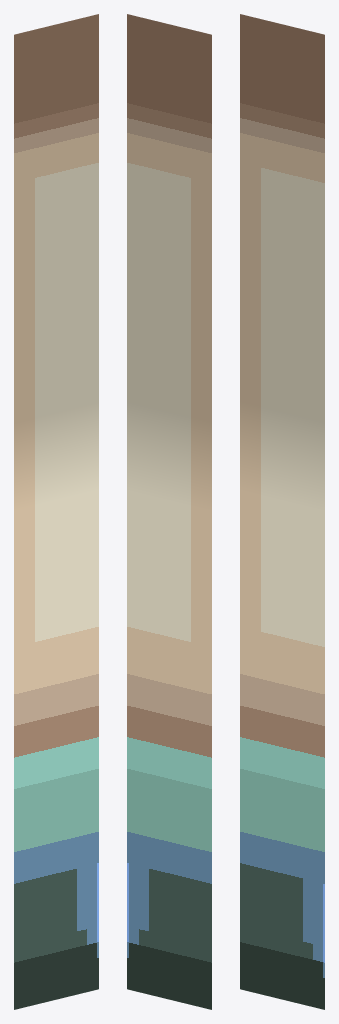
The picture shows the model from 3 angles, left to right: view 1: azimuth 30°, elevation 25°; view 2: azimuth 150°, elevation 25°; view 3: azimuth 330°, elevation 25°; orthographic projection.
Size of the model in its own units: 0.5 by 5.5 by 0.
Materials: 1 (1 with a texture image).
